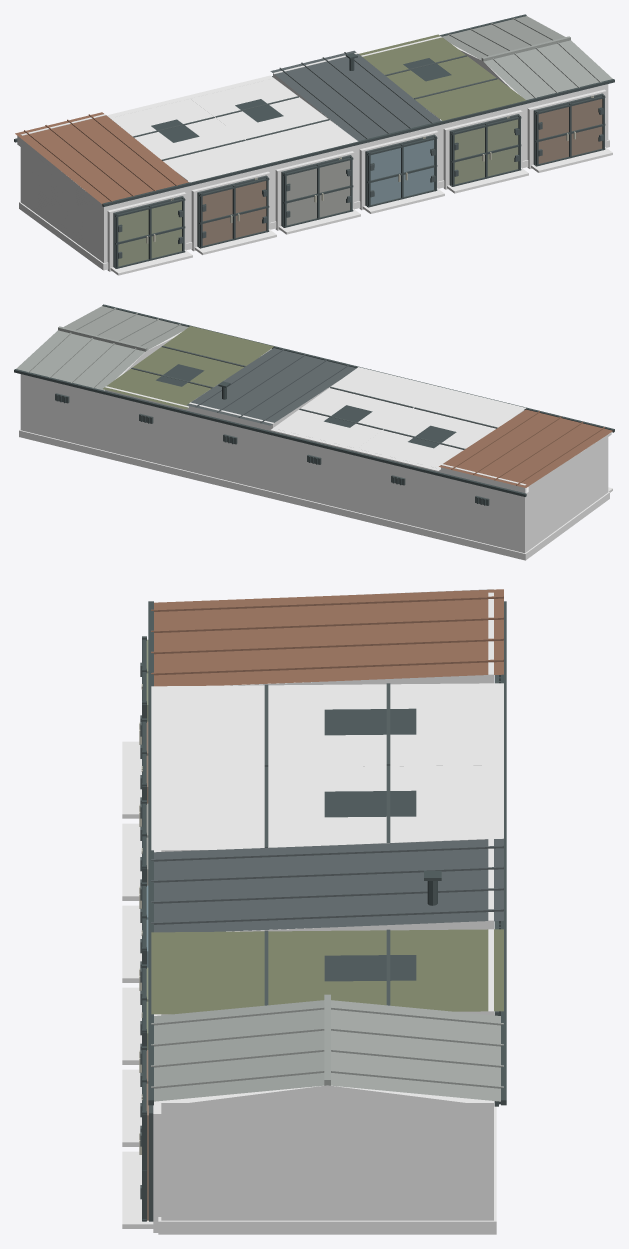
The model's file is frontier_garage_row_1.glb.
3 views of the same model, one above another, from view 1: azimuth 30°, elevation 25°; view 2: azimuth 150°, elevation 25°; view 3: azimuth 270°, elevation 25° (orthographic). The views are drawn at different scales.
Parts seen in each view (by area): view 1: frontier_garage_row_1; view 2: frontier_garage_row_1; view 3: frontier_garage_row_1.
Part boxes in pixels (x1=…): frontier_garage_row_1: x1=14, y1=14, x2=614, y2=275; frontier_garage_row_1: x1=14, y1=304, x2=614, y2=560; frontier_garage_row_1: x1=122, y1=589, x2=506, y2=1234.
Bounding box in the file's own units: 21.3 × 3.55 × 6.93.
